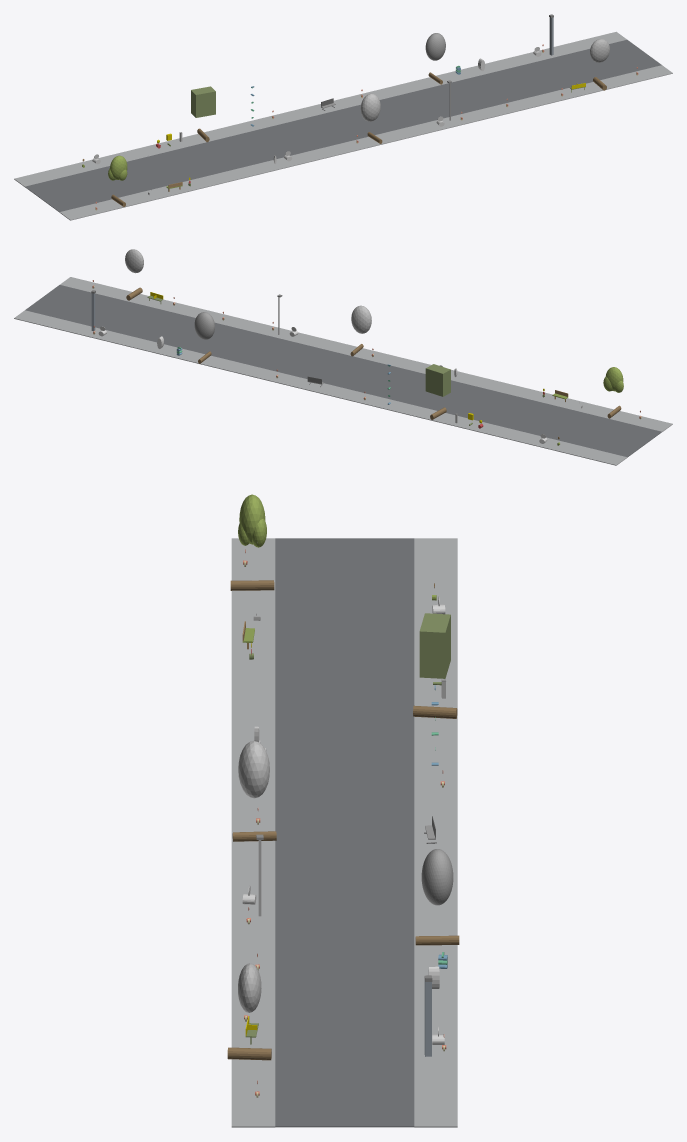
3 views of the same model, one above another, from view 1: azimuth 30°, elevation 25°; view 2: azimuth 150°, elevation 25°; view 3: azimuth 270°, elevation 25° (orthographic). The views are drawn at different scales.
Parts seen in each view (by area): view 1: road_slab, sidewalk_left, sidewalk_right, inst_0013, inst_0014, inst_0015, inst_0012, inst_0016; view 2: road_slab, sidewalk_right, sidewalk_left, inst_0013, inst_0014, inst_0015, inst_0012, inst_0016; view 3: road_slab, sidewalk_left, sidewalk_right, inst_0013, inst_0015, inst_0014, inst_0012, inst_0016.
Part boxes in pixels (x1,y1,x2,y2): road_slab: (25, 39, 661, 212); sidewalk_left: (59, 65, 672, 220); sidewalk_right: (14, 31, 626, 186); inst_0013: (191, 86, 215, 142); inst_0014: (360, 93, 382, 143); inst_0015: (425, 33, 445, 84); inst_0012: (108, 155, 127, 206); inst_0016: (590, 39, 609, 90); road_slab: (25, 285, 661, 457); sidewalk_right: (14, 310, 627, 465); sidewalk_left: (60, 277, 672, 431); inst_0013: (425, 364, 450, 419); inst_0014: (350, 305, 371, 356); inst_0015: (194, 312, 214, 363); inst_0012: (603, 367, 623, 418); inst_0016: (125, 249, 143, 300); road_slab: (275, 538, 414, 1127); sidewalk_left: (231, 538, 275, 1127); sidewalk_right: (414, 538, 457, 1127); inst_0013: (413, 613, 457, 718); inst_0015: (415, 849, 459, 945); inst_0014: (232, 740, 276, 841); inst_0012: (230, 494, 274, 590); inst_0016: (227, 963, 271, 1060).
Bounding box in the file's own units: 80 × 6.08 × 13.32.
